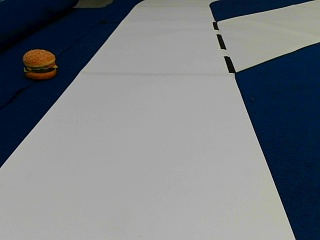burger: (21, 47, 57, 79)
